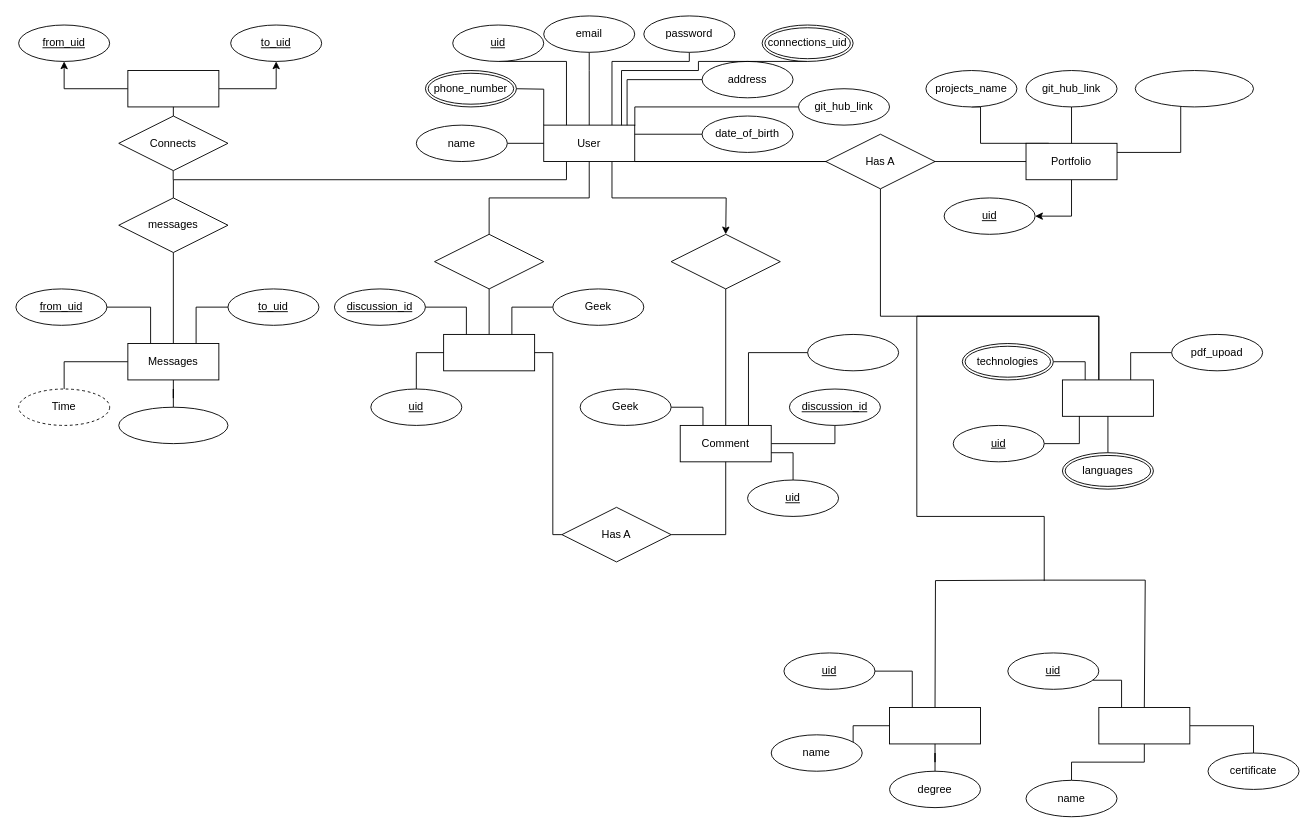
The diagram is 1315 pixels wide and 833 high, and some of its shapes have lost their labels. The shapes that lost their labels are listed below. From the top down, each one's box as (x1, y1, x2, y2) in pixels, then its label:
(127, 70, 219, 107): Connection Request
(1134, 70, 1254, 107): project_description
(434, 233, 544, 289): Posts
(670, 233, 780, 289): Comments
(443, 334, 535, 371): Discussion
(807, 334, 899, 371): comment_content
(1062, 379, 1153, 416): basic_info
(118, 406, 228, 444): message_content
(889, 707, 981, 744): university
(1098, 707, 1190, 744): training
